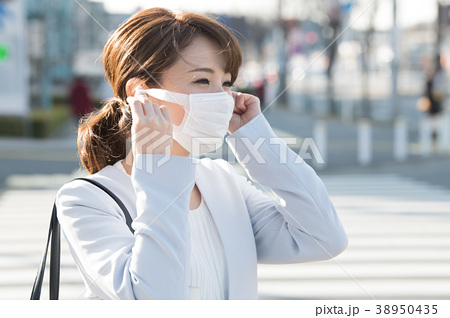mask: (171, 90, 246, 155)
